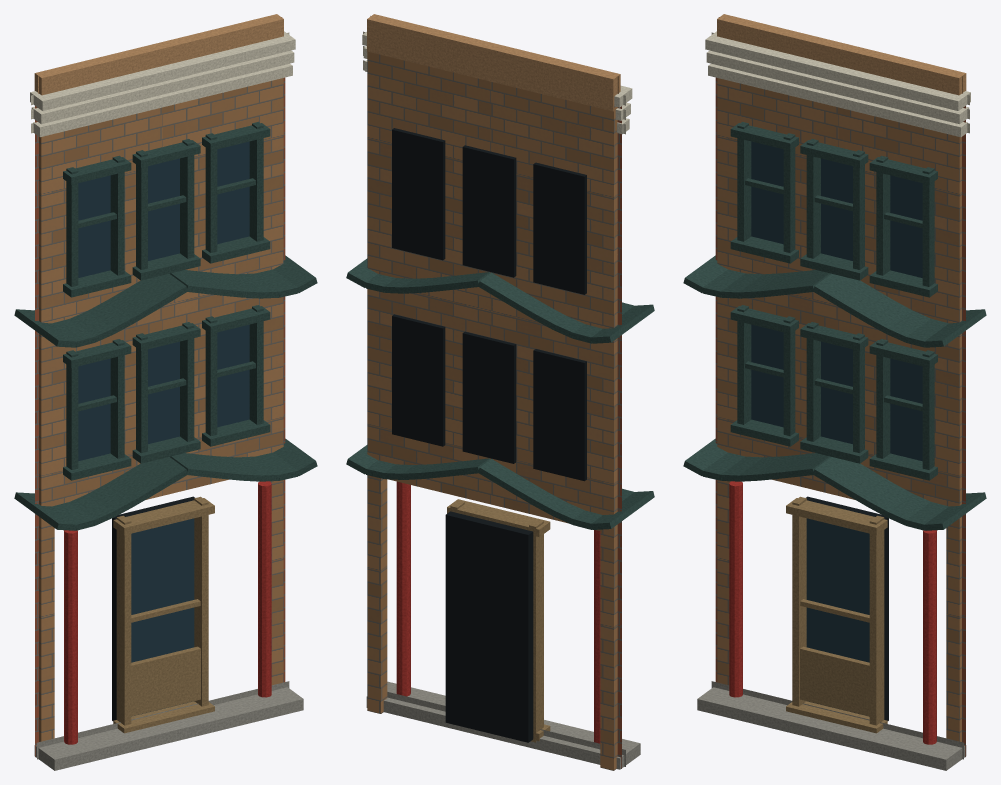
File: CHINA15_lod2.glb
The picture shows the model from 3 angles, left to right: view 1: azimuth 30°, elevation 25°; view 2: azimuth 150°, elevation 25°; view 3: azimuth 330°, elevation 25°; orthographic projection.
Visible parts, largest first — view 1: CHINA15_FRONT_LOD2; view 2: CHINA15_FRONT_LOD2; view 3: CHINA15_FRONT_LOD2.
Part boxes in pixels (<box>): CHINA15_FRONT_LOD2: <box>14,14,317,770</box>; CHINA15_FRONT_LOD2: <box>346,14,654,770</box>; CHINA15_FRONT_LOD2: <box>683,14,986,770</box>.
Size of the model in its own units: 3.87 by 9.66 by 1.1.
11 materials, 9 textured.
